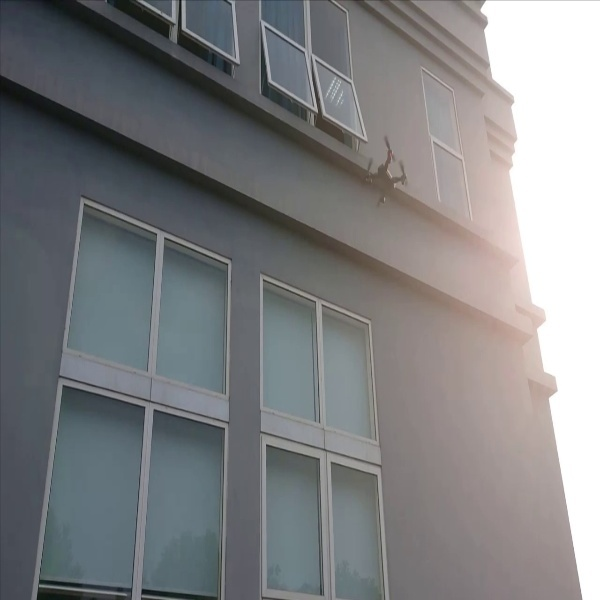drone: (353, 135, 413, 206)
